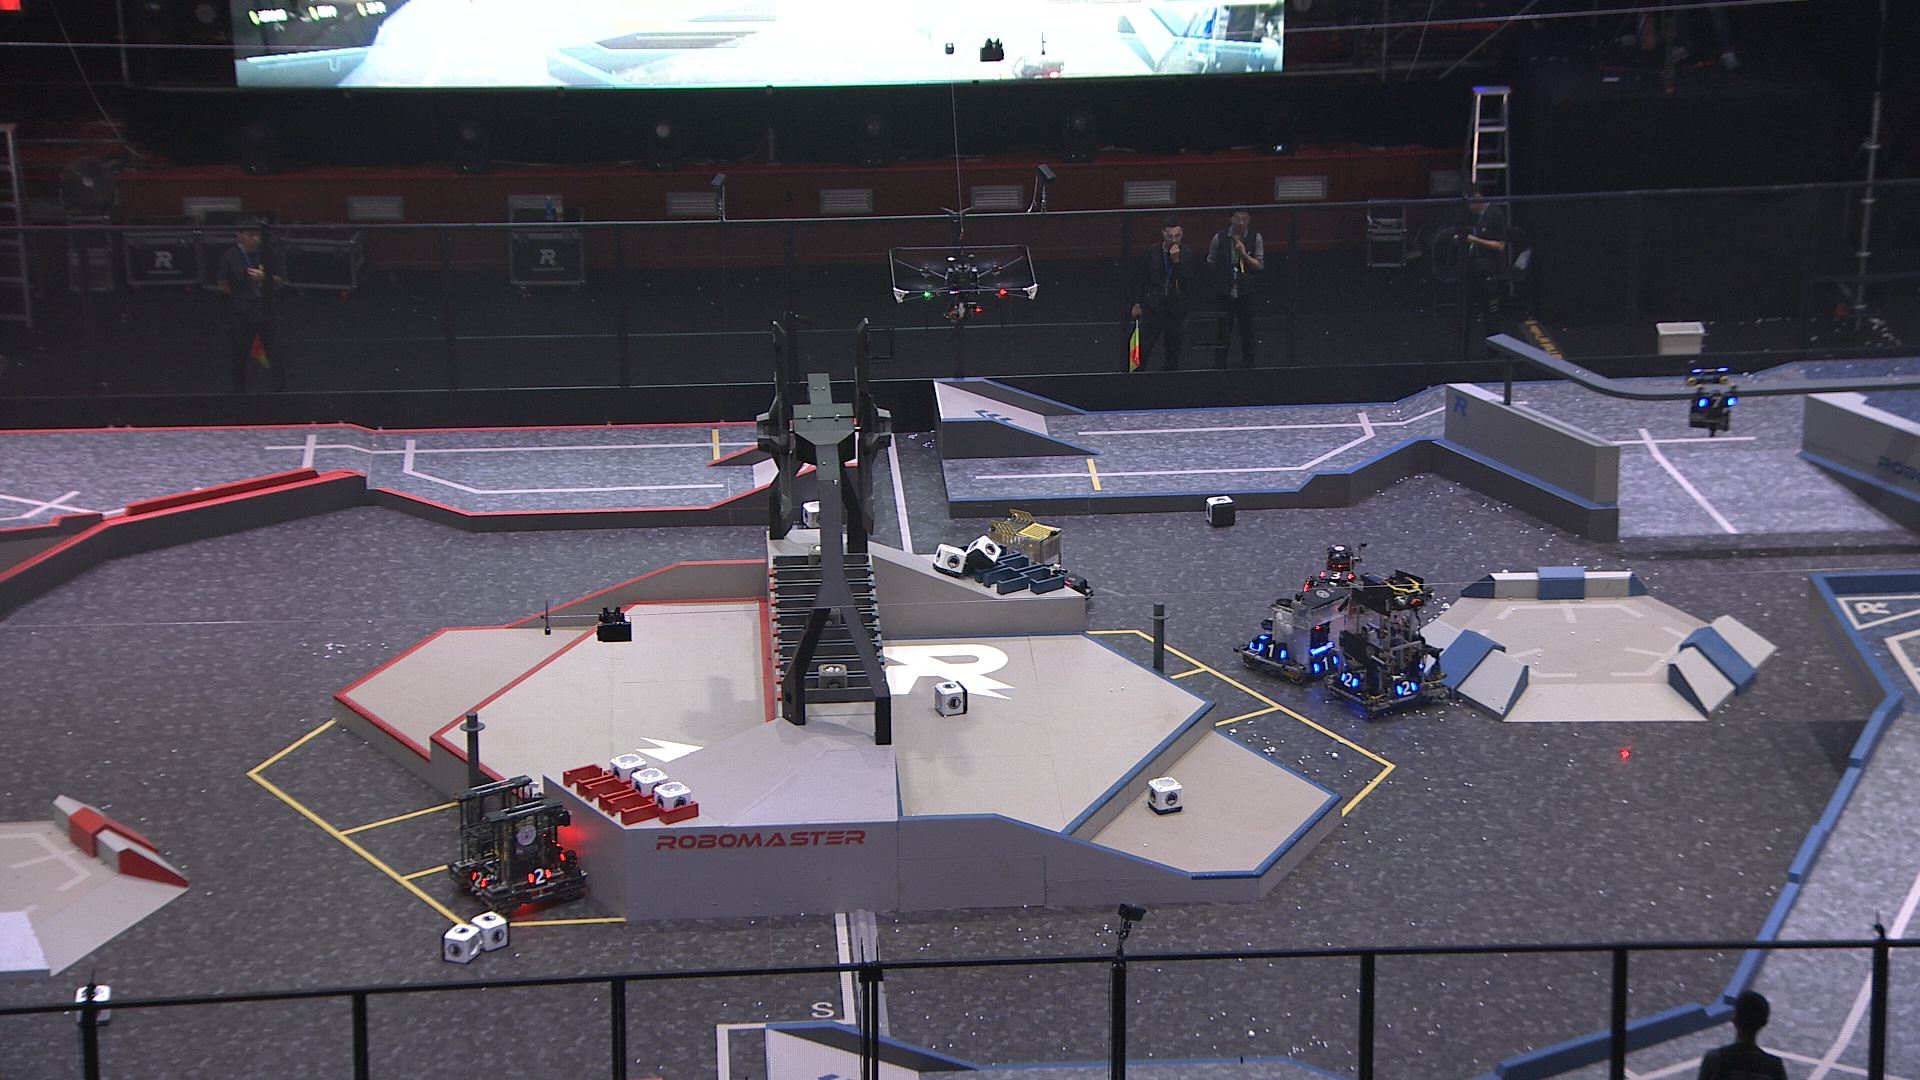armor: (1697, 392, 1735, 411), (1258, 642, 1287, 661), (1315, 651, 1338, 673), (1319, 568, 1352, 583), (527, 868, 555, 884), (467, 868, 487, 889), (1396, 679, 1416, 695), (1338, 673, 1358, 688)
car: (446, 773, 589, 916), (1331, 572, 1447, 721), (977, 512, 1095, 622), (1240, 583, 1353, 694), (1300, 537, 1396, 608)
watcher: (1683, 367, 1741, 438)
